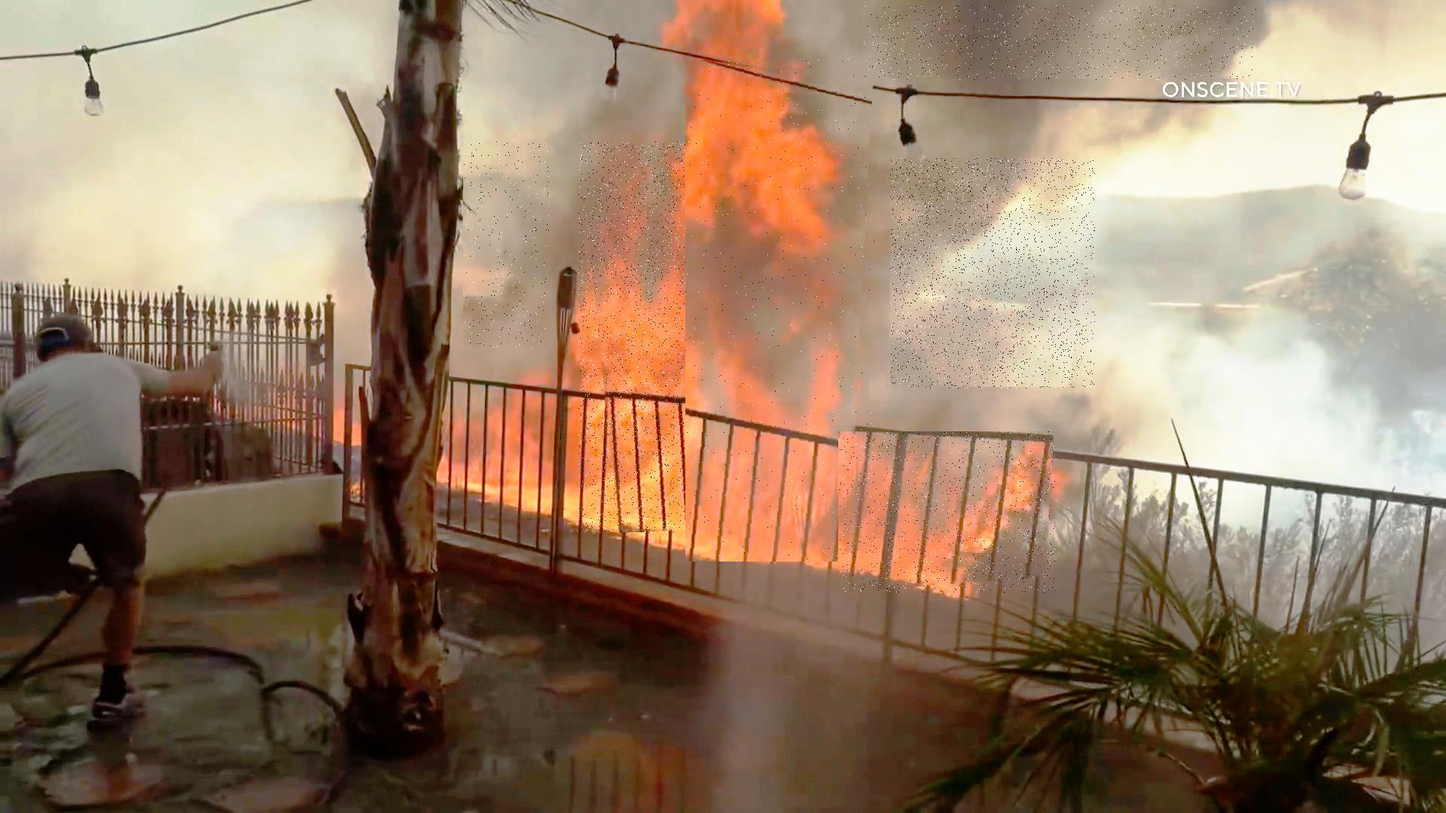fire: (686, 59, 876, 562), (578, 142, 716, 533), (840, 431, 1055, 593)
smoke: (891, 158, 1096, 389), (863, 6, 1257, 80), (464, 139, 550, 349)
